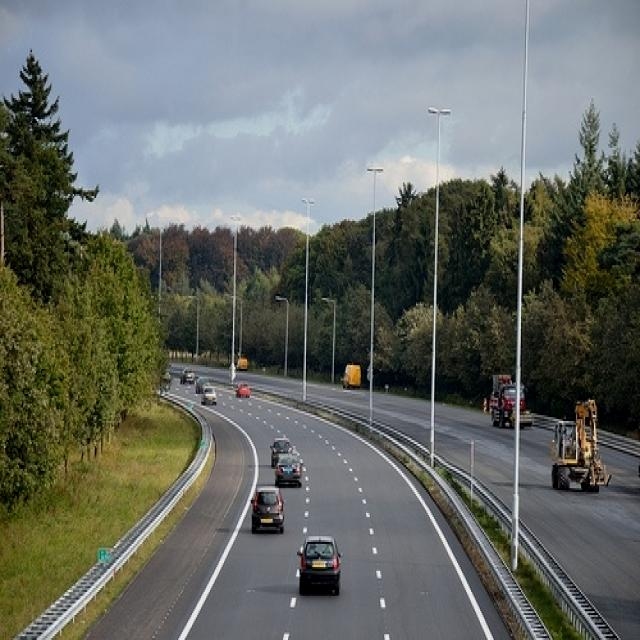Carro Preto: (296, 535, 344, 597), (245, 488, 288, 537), (277, 453, 301, 484), (270, 434, 291, 466)
Carro Vermelho: (236, 380, 251, 399)
